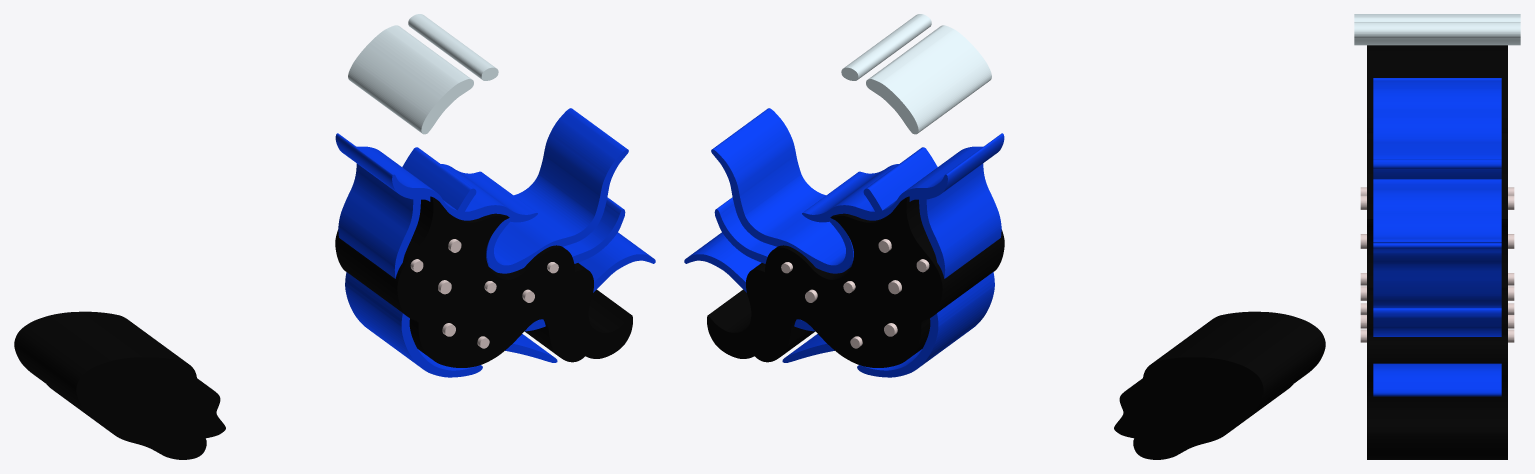
Rendered from U+1FABC.obj.
3 views of the same model, side by side, from view 1: azimuth 30°, elevation 25°; view 2: azimuth 150°, elevation 25°; view 3: azimuth 270°, elevation 25° (orthographic). The views are drawn at different scales.
Visible parts, largest first — view 1: U+1FABC_layer01_obj01, U+1FABC_layer01_obj02, U+1FABC_layer00_obj02, U+1FABC_layer03_obj00, U+1FABC_layer01_obj00, U+1FABC_layer00_obj03, U+1FABC_layer00_obj04, U+1FABC_layer00_obj01, U+1FABC_layer00_obj00, U+1FABC_layer00_obj05, U+1FABC_layer03_obj01; view 2: U+1FABC_layer01_obj01, U+1FABC_layer01_obj02, U+1FABC_layer00_obj02, U+1FABC_layer03_obj00, U+1FABC_layer00_obj03, U+1FABC_layer01_obj00, U+1FABC_layer00_obj04, U+1FABC_layer00_obj01, U+1FABC_layer00_obj00, U+1FABC_layer00_obj05, U+1FABC_layer03_obj01; view 3: U+1FABC_layer00_obj04, U+1FABC_layer01_obj01, U+1FABC_layer00_obj02, U+1FABC_layer00_obj01, U+1FABC_layer01_obj02, U+1FABC_layer00_obj05, U+1FABC_layer03_obj01, U+1FABC_layer03_obj00, U+1FABC_layer02_obj00, U+1FABC_layer02_obj02, U+1FABC_layer02_obj04, U+1FABC_layer02_obj03 (+1 smaller).
Boxes of the visible parts, x1,y1,x2,y2 form: U+1FABC_layer01_obj01: [335, 196, 632, 367]; U+1FABC_layer01_obj02: [14, 311, 225, 440]; U+1FABC_layer00_obj02: [486, 108, 628, 273]; U+1FABC_layer03_obj00: [348, 25, 473, 134]; U+1FABC_layer01_obj00: [46, 370, 211, 459]; U+1FABC_layer00_obj03: [338, 163, 557, 362]; U+1FABC_layer00_obj04: [335, 133, 537, 222]; U+1FABC_layer00_obj01: [402, 147, 625, 263]; U+1FABC_layer00_obj00: [345, 199, 482, 377]; U+1FABC_layer00_obj05: [470, 210, 655, 331]; U+1FABC_layer03_obj01: [408, 14, 498, 80]; U+1FABC_layer01_obj01: [707, 196, 1004, 367]; U+1FABC_layer01_obj02: [1114, 311, 1325, 440]; U+1FABC_layer00_obj02: [711, 108, 853, 273]; U+1FABC_layer03_obj00: [866, 25, 991, 134]; U+1FABC_layer00_obj03: [782, 163, 1001, 362]; U+1FABC_layer01_obj00: [1128, 370, 1293, 459]; U+1FABC_layer00_obj04: [802, 133, 1004, 222]; U+1FABC_layer00_obj01: [714, 147, 937, 263]; U+1FABC_layer00_obj00: [857, 200, 994, 377]; U+1FABC_layer00_obj05: [684, 211, 869, 331]; U+1FABC_layer03_obj01: [841, 14, 931, 80]; U+1FABC_layer00_obj04: [1373, 78, 1501, 242]; U+1FABC_layer01_obj01: [1367, 133, 1507, 459]; U+1FABC_layer00_obj02: [1373, 243, 1501, 307]; U+1FABC_layer00_obj01: [1373, 159, 1501, 336]; U+1FABC_layer01_obj02: [1367, 45, 1507, 133]; U+1FABC_layer00_obj05: [1373, 363, 1501, 396]; U+1FABC_layer03_obj01: [1354, 22, 1520, 38]; U+1FABC_layer03_obj00: [1354, 14, 1520, 45]; U+1FABC_layer02_obj00: [1360, 286, 1514, 300]; U+1FABC_layer02_obj02: [1360, 234, 1514, 248]; U+1FABC_layer02_obj04: [1360, 195, 1514, 209]; U+1FABC_layer02_obj03: [1360, 315, 1514, 328].
Size of the model in its own units: 0.5958 by 0.3167 by 0.13.
